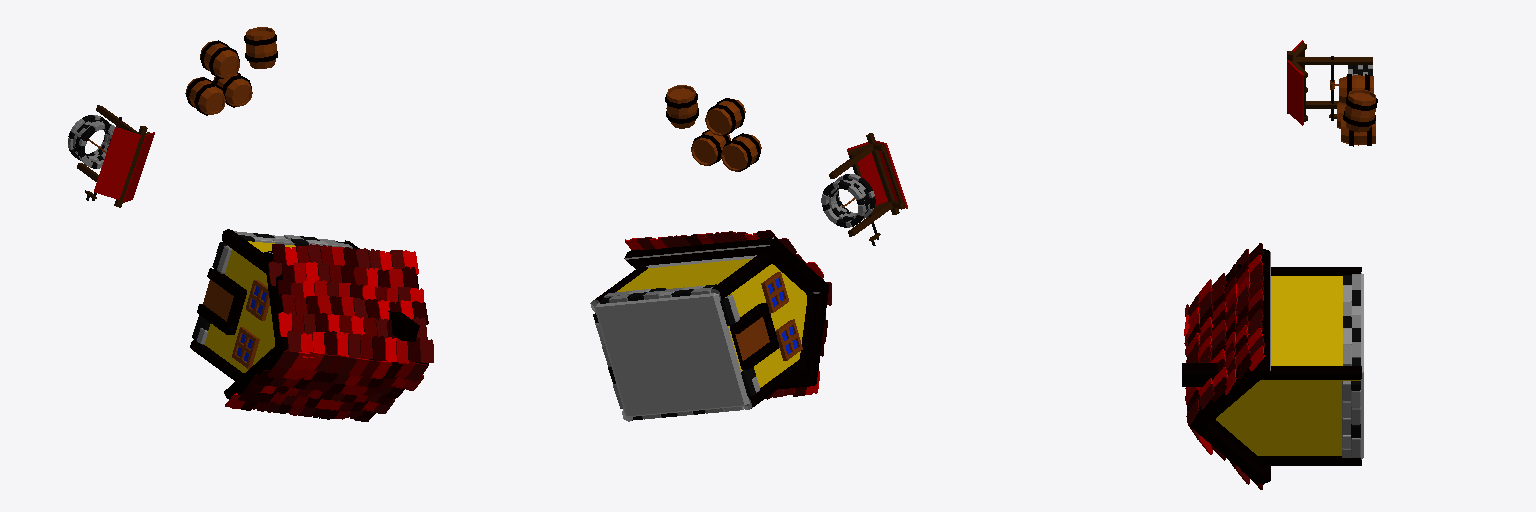
Rendered from House.obj.
The picture shows the model from 3 angles: view 1: azimuth 30°, elevation 25°; view 2: azimuth 150°, elevation 25°; view 3: azimuth 270°, elevation 25°; orthographic projection.
Parts seen in each view (by area): view 1: House, Well, Barrel.003, Barrel.002, Barrel.001, Barrel; view 2: House, Well, Barrel.003, Barrel.002, Barrel.001, Barrel; view 3: House, Well, Barrel.003, Barrel.001, Barrel.
Part boxes in pixels (x1,y1,x2,y2): House: (190,229,433,421); Well: (68,105,154,207); Barrel.003: (244,27,277,68); Barrel.002: (185,77,225,115); Barrel.001: (200,40,239,78); Barrel: (213,72,252,107); House: (590,230,831,421); Well: (821,133,907,245); Barrel.003: (665,85,698,128); Barrel.002: (721,133,761,171); Barrel.001: (705,98,745,135); Barrel: (691,130,730,165); House: (1182,243,1363,489); Well: (1287,40,1372,125); Barrel.003: (1343,89,1377,132); Barrel.001: (1339,74,1373,104); Barrel: (1341,117,1375,146).
Size of the model in its own units: 1.43 by 1.66 by 0.7961.